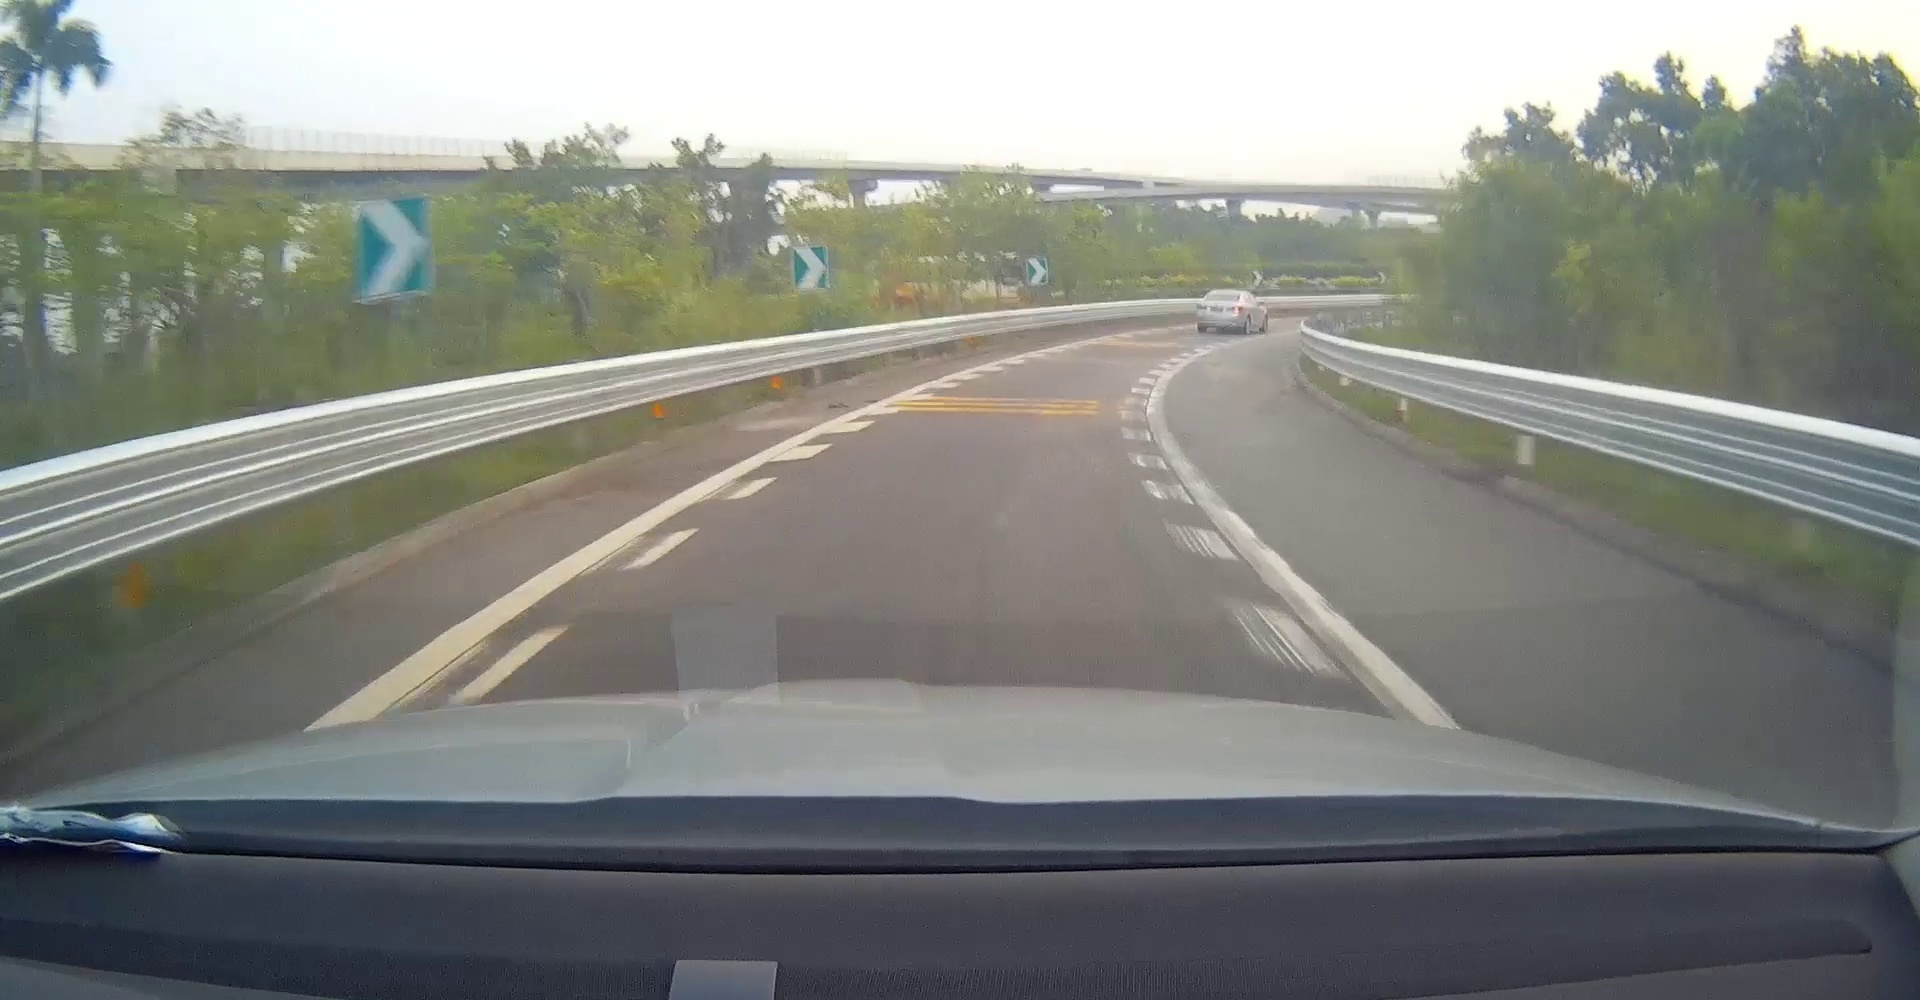L_light: (1197, 305, 1209, 308)
R_light: (1229, 305, 1243, 312)
T_light: (1217, 297, 1225, 302)
day-right: (1196, 289, 1243, 334)
